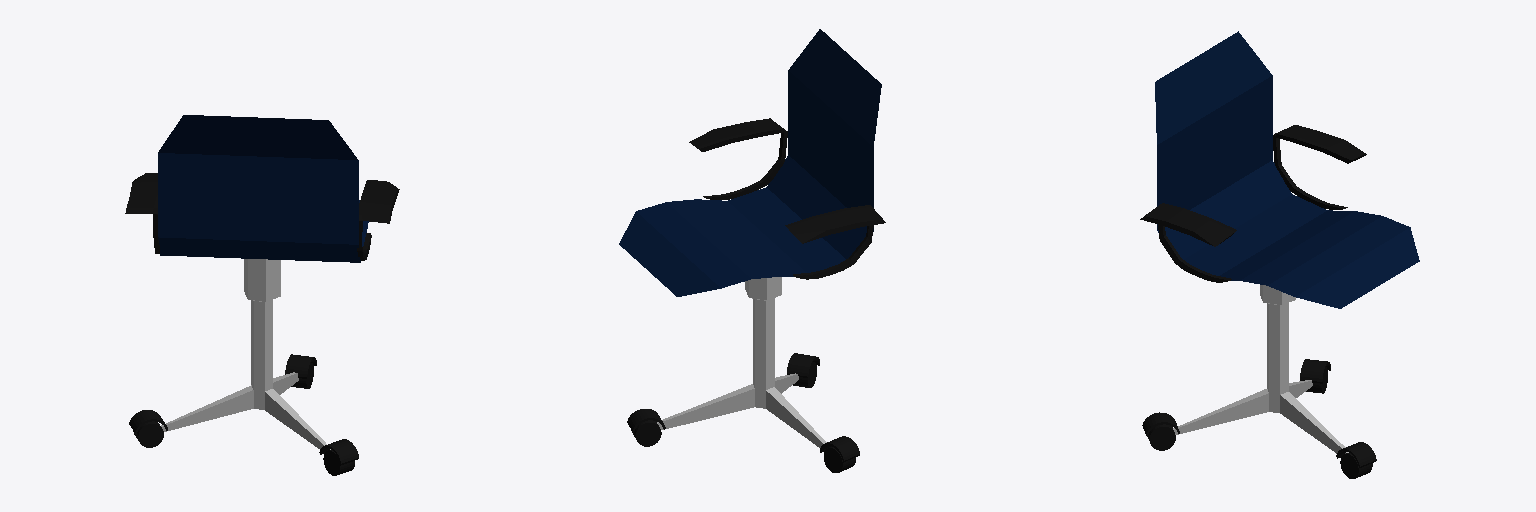
Rendered from ComputerChair.obj.
The picture shows the model from 3 angles: view 1: azimuth 30°, elevation 25°; view 2: azimuth 150°, elevation 25°; view 3: azimuth 270°, elevation 25°; orthographic projection.
Parts seen in each view (by area): view 1: Cylinder.006; view 2: Cylinder.006; view 3: Cylinder.006.
Boxes of the visible parts, x1,y1,x2,y2 form: Cylinder.006: [125, 115, 399, 475]; Cylinder.006: [619, 29, 885, 472]; Cylinder.006: [1140, 31, 1419, 478].
Bounding box in the file's own units: 1.66 × 2.27 × 1.61.